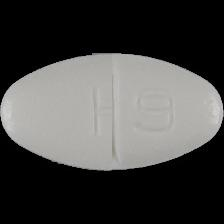0615-7997: (0, 0, 224, 224)
